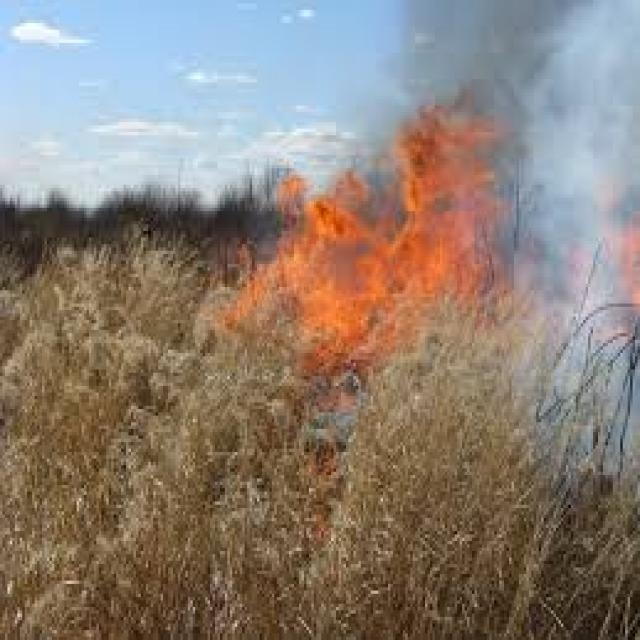Fire: (221, 102, 640, 395)
